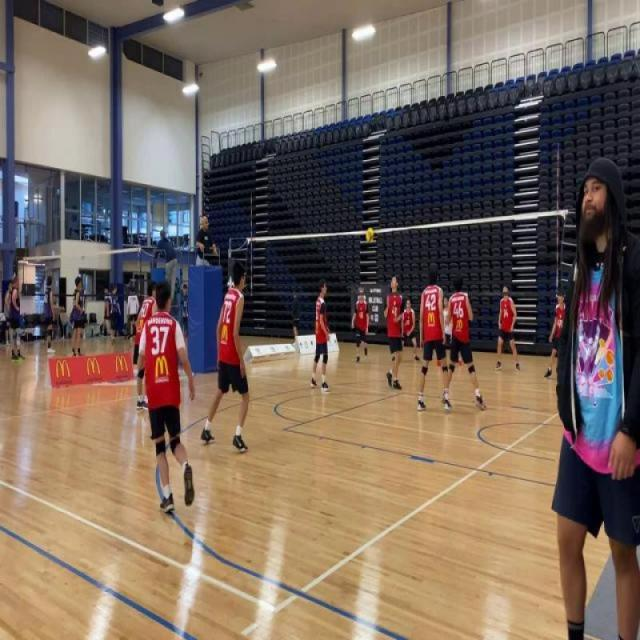volleyball: (364, 226, 376, 246)
